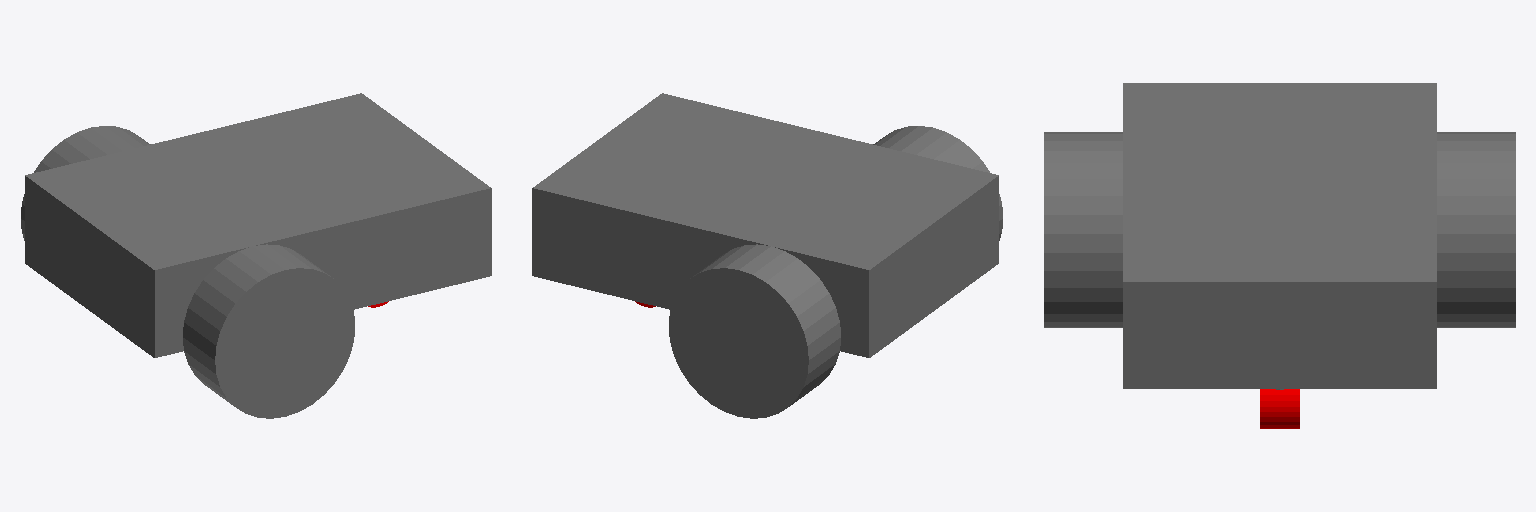
URDF robot description (my_robo):
<?xml version="1.0"?>
<robot name="my_robo" xmlns:xacro="http://ros.org/wiki/xacro">
  <material name="gray">
    <color rgba="0.5 0.5 0.5 2.5"/>
  </material>
  <material name="red">
    <color rgba="1.0 0.0 0.0 2.5"/>
  </material>

  <link name="base_link"/>

  <joint name="bodyjoint" type="fixed">
    <parent link="base_link"/>
    <child  link="body_link"/>
    <origin xyz="0.05 0 0.07" rpy="0 0 0"/>
  </joint>
  <link name="body_link">
    <inertial>
      <origin xyz="0 0 0" rpy="0 0 0"/>
      <mass value="2.0"/>
      <inertia ixx="0.1" ixy="0.0" ixz="0.0" iyy="0.1" iyz="0.0" izz="0.1"/>
    </inertial>
    <visual>
      <origin xyz="0 0 0" rpy="0 0 0" />
      <geometry>
        <box size="0.24 0.16 0.06" />
      </geometry>
      <material name="gray" />
    </visual>
    <collision>
      <origin xyz="0 0 0" rpy="0 0 0"/>
      <geometry>
        <box size="0.23 0.15 0.05" />
      </geometry>
    </collision>
  </link>
  <gazebo reference="body_link">
    <mu1 value="0.5" />
    <mu2 value="0.5" />
    <material>Gazebo/Gray</material>
  </gazebo>

  <joint name="left_wheel_joint" type="continuous">
    <parent link="base_link"/>
    <child  link="left_wheel_link"/>
    <origin xyz="0 0.1 0.05" rpy="-1.5708 0 0"/>
    <axis xyz="0 0 1" />
    <limit velocity="12.0" effort="0.4" />
    <dynamics damping="0.1"/>
  </joint>
  <transmission name="left_wheel_trans">
    <type>transmission_interface/SimpleTransmission</type>
    <joint name="left_wheel_joint">
        <hardwareInterface>hardware_interface/VelocityJointInterface</hardwareInterface>
    </joint>
    <actuator name="left_wheel_motor">
       <hardwareInterface>hardware_interface/VelocityJointInterface</hardwareInterface>
       <mechanismReduction>1</mechanismReduction>
    </actuator>
  </transmission>

  <link name="left_wheel_link">
    <inertial>
      <origin xyz="0 0 0" rpy="0 0 0"/>
      <mass value="0.1"/>
      <inertia ixx="0.1" ixy="0.0" ixz="0.0" iyy="0.1" iyz="0.0" izz="0.1"/>
    </inertial>
    <visual>
      <origin xyz="0 0 0" rpy="0 0 0" />
      <geometry>
        <cylinder radius="0.05" length="0.04" />
      </geometry>
      <material name="red">
        <color rgba="0.5 0.5 0.5 2.5"/>
      </material>
    </visual>
    <collision>
      <origin xyz="0 0 0" rpy="0 0 0"/>
      <geometry>
        <cylinder radius="0.05" length="0.04" />
      </geometry>
    </collision>
  </link>
  <gazebo reference="left_wheel_link">
    <mu1 value="0.5" />
    <mu2 value="0.5" />
    <material>Gazebo/Red</material>
  </gazebo>

  <joint name="right_wheel_joint" type="continuous">
    <parent link="base_link"/>
    <child  link="right_wheel_link"/>
    <origin xyz="0 -0.1 0.05" rpy="-1.5708 0 0"/>
    <axis xyz="0 0 1" />
    <limit velocity="12.0" effort="0.4" />
    <dynamics damping="0.1"/>
  </joint>
  <transmission name="right_wheel_trans">
    <type>transmission_interface/SimpleTransmission</type>
    <joint name="right_wheel_joint">
        <hardwareInterface>hardware_interface/VelocityJointInterface</hardwareInterface>
    </joint>
    <actuator name="right_wheel_motor">
       <hardwareInterface>hardware_interface/VelocityJointInterface</hardwareInterface>
       <mechanismReduction>1</mechanismReduction>
    </actuator>
  </transmission>

  <link name="right_wheel_link">
    <inertial>
      <origin xyz="0 0 0" rpy="0 0 0"/>
      <mass value="0.1"/>
      <inertia ixx="0.1" ixy="0.0" ixz="0.0" iyy="0.1" iyz="0.0" izz="0.1"/>
    </inertial>
    <visual>
      <origin xyz="0 0 0" rpy="0 0 0" />
      <geometry>
        <cylinder radius="0.05" length="0.04" />
      </geometry>
      <material name="red">
        <color rgba="0.5 0.5 0.5 2.5"/>
      </material>
    </visual>
    <collision>
      <origin xyz="0 0 0" rpy="0 0 0"/>
      <geometry>
        <cylinder radius="0.05" length="0.04" />
      </geometry>
    </collision>
  </link>
  <gazebo reference="right_wheel_link">
    <mu1 value="0.5" />
    <mu2 value="0.5" />
    <material>Gazebo/Red</material>
  </gazebo>

  <joint name="front_steer_joint" type="continuous">
    <parent link="base_link"/>
    <child  link="front_steer_link"/>
    <origin xyz="0.14 0 0.05" rpy="0 0 0"/>
    <axis xyz="0 0 1" />
    <dynamics damping="0.7"/>
  </joint>
  <transmission name="front_steer_trans">
    <type>transmission_interface/SimpleTransmission</type>
    <joint name="front_steer_joint">
        <hardwareInterface>hardware_interface/EffortJointInterface</hardwareInterface>
    </joint>
    <actuator name="front_steer_motor">
       <hardwareInterface>hardware_interface/EffortJointInterface</hardwareInterface>
       <mechanismReduction>1</mechanismReduction>
    </actuator>
  </transmission>

  <link name="front_steer_link">
    <inertial>
      <origin xyz="0 0 0" rpy="0 0 0"/>
      <mass value="0.1"/>
      <inertia ixx="0.1" ixy="0.0" ixz="0.0" iyy="0.1" iyz="0.0" izz="0.1"/>
    </inertial>
   <visual>
     <origin xyz="0 0 0" rpy="0 0 0" />
     <geometry>
       <cylinder radius="0.01" length="0.04" />
     </geometry>
     <material name="gray" />
   </visual>
  </link>

  <joint name="front_wheel_joint" type="continuous">
    <parent link="front_steer_link"/>
    <child  link="front_wheel_link"/>
    <origin xyz="-0.01 0 -0.035" rpy="1.5708 0 0"/>
    <axis xyz="0 0 1" />
  </joint>
  <transmission name="front_wheel_trans">
    <type>transmission_interface/SimpleTransmission</type>
    <joint name="front_wheel_joint">
        <hardwareInterface>hardware_interface/EffortJointInterface</hardwareInterface>
    </joint>
    <actuator name="front_wheel_motor">
       <hardwareInterface>hardware_interface/EffortJointInterface</hardwareInterface>
       <mechanismReduction>1</mechanismReduction>
    </actuator>
  </transmission>

  <link name="front_wheel_link">
    <inertial>
      <origin xyz="0 0 0" rpy="0 0 0"/>
      <mass value="0.3"/>
      <inertia ixx="0.1" ixy="0.0" ixz="0.0" iyy="0.1" iyz="0.0" izz="0.1"/>
    </inertial>
    <visual>
      <origin xyz="0 0 0" rpy="0 0 0" />
      <geometry>
        <cylinder radius="0.015" length="0.02" />
      </geometry>
      <material name="red" />
    </visual>
    <collision>
      <origin xyz="0 0 0" rpy="0 0 0"/>
      <geometry>
        <cylinder radius="0.015" length="0.02" />
      </geometry>
    </collision>
  </link>
  <gazebo reference="front_wheel_link">
    <mu1 value="1.3" />
    <mu2 value="1.3" />
    <material>Gazebo/Gray</material>
  </gazebo>

  <gazebo>
    <plugin name="gazebo_ros_control" filename="libgazebo_ros_control.so">
      <robotNamespace>/wheel_robot</robotNamespace>
    </plugin>
  </gazebo>
</robot>

--- Render facts (derived) ---
Views: 3 orthographic renders of the robot side by side, from view 1: azimuth 30°, elevation 25°; view 2: azimuth 150°, elevation 25°; view 3: azimuth 270°, elevation 25°.
Model my_robo with 6 links and 5 joints (4 continuous, 1 fixed), rooted at base_link, posed every joint at zero.
Visible links, largest first — view 1: body_link, right_wheel_link, left_wheel_link; view 2: body_link, left_wheel_link, right_wheel_link; view 3: body_link, left_wheel_link, right_wheel_link, front_wheel_link.
Link boxes in pixels (x1,y1,x2,y2): body_link: (25, 93, 491, 357); right_wheel_link: (183, 244, 354, 418); left_wheel_link: (21, 126, 150, 240); body_link: (532, 93, 998, 357); left_wheel_link: (669, 244, 840, 418); right_wheel_link: (873, 126, 1002, 240); body_link: (1123, 83, 1436, 388); left_wheel_link: (1437, 132, 1515, 327); right_wheel_link: (1044, 132, 1122, 327); front_wheel_link: (1260, 389, 1299, 428).
Bounding box of the posed robot: 0.24 × 0.24 × 0.1 m (x, y, z).
Geometry: primitives only (box / cylinder / sphere), no mesh files.